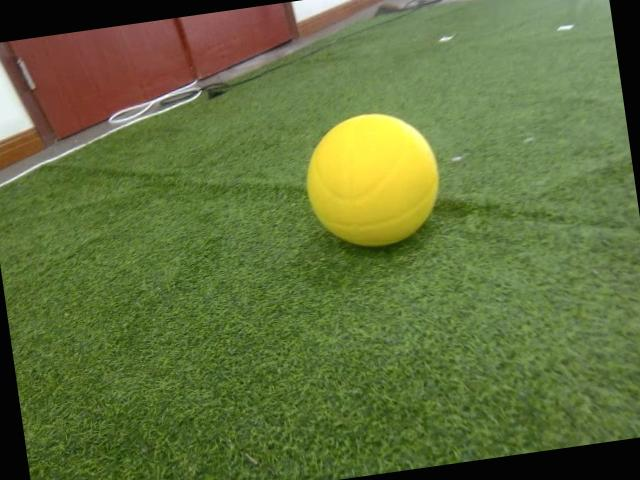yellow_ball: (298, 107, 449, 259)
